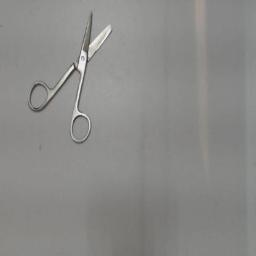Dressing Scissors: (22, 6, 120, 148)
